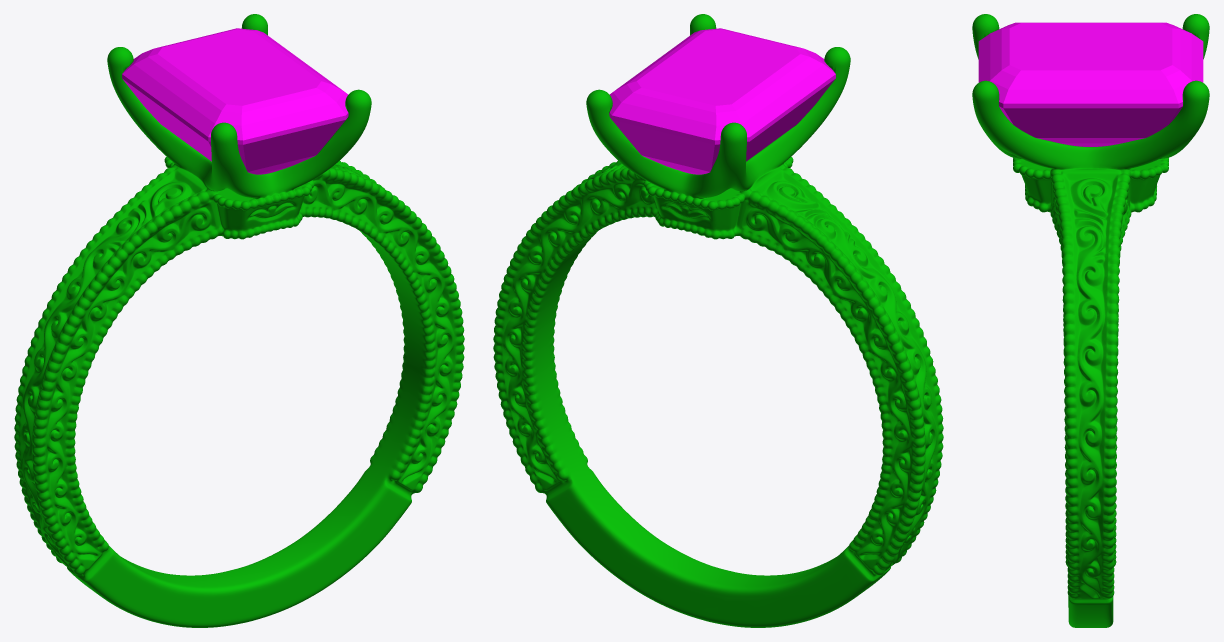
File: BE132_EM_200ct_RENDER.glb
The picture shows the model from 3 angles, left to right: view 1: azimuth 30°, elevation 25°; view 2: azimuth 150°, elevation 25°; view 3: azimuth 270°, elevation 25°; orthographic projection.
Visible parts, largest first — view 1: Metal 01, CS_Diamond_Emerald; view 2: Metal 01, CS_Diamond_Emerald; view 3: Metal 01, CS_Diamond_Emerald.
Boxes of the visible parts, x1=… form: Metal 01: x1=14, y1=14, x2=464, y2=627; CS_Diamond_Emerald: x1=122, y1=28, x2=348, y2=174; Metal 01: x1=493, y1=14, x2=943, y2=627; CS_Diamond_Emerald: x1=609, y1=28, x2=835, y2=174; Metal 01: x1=972, y1=14, x2=1209, y2=627; CS_Diamond_Emerald: x1=978, y1=22, x2=1203, y2=146.
Size of the model in its own units: 20.26 by 24.68 by 9.51.
